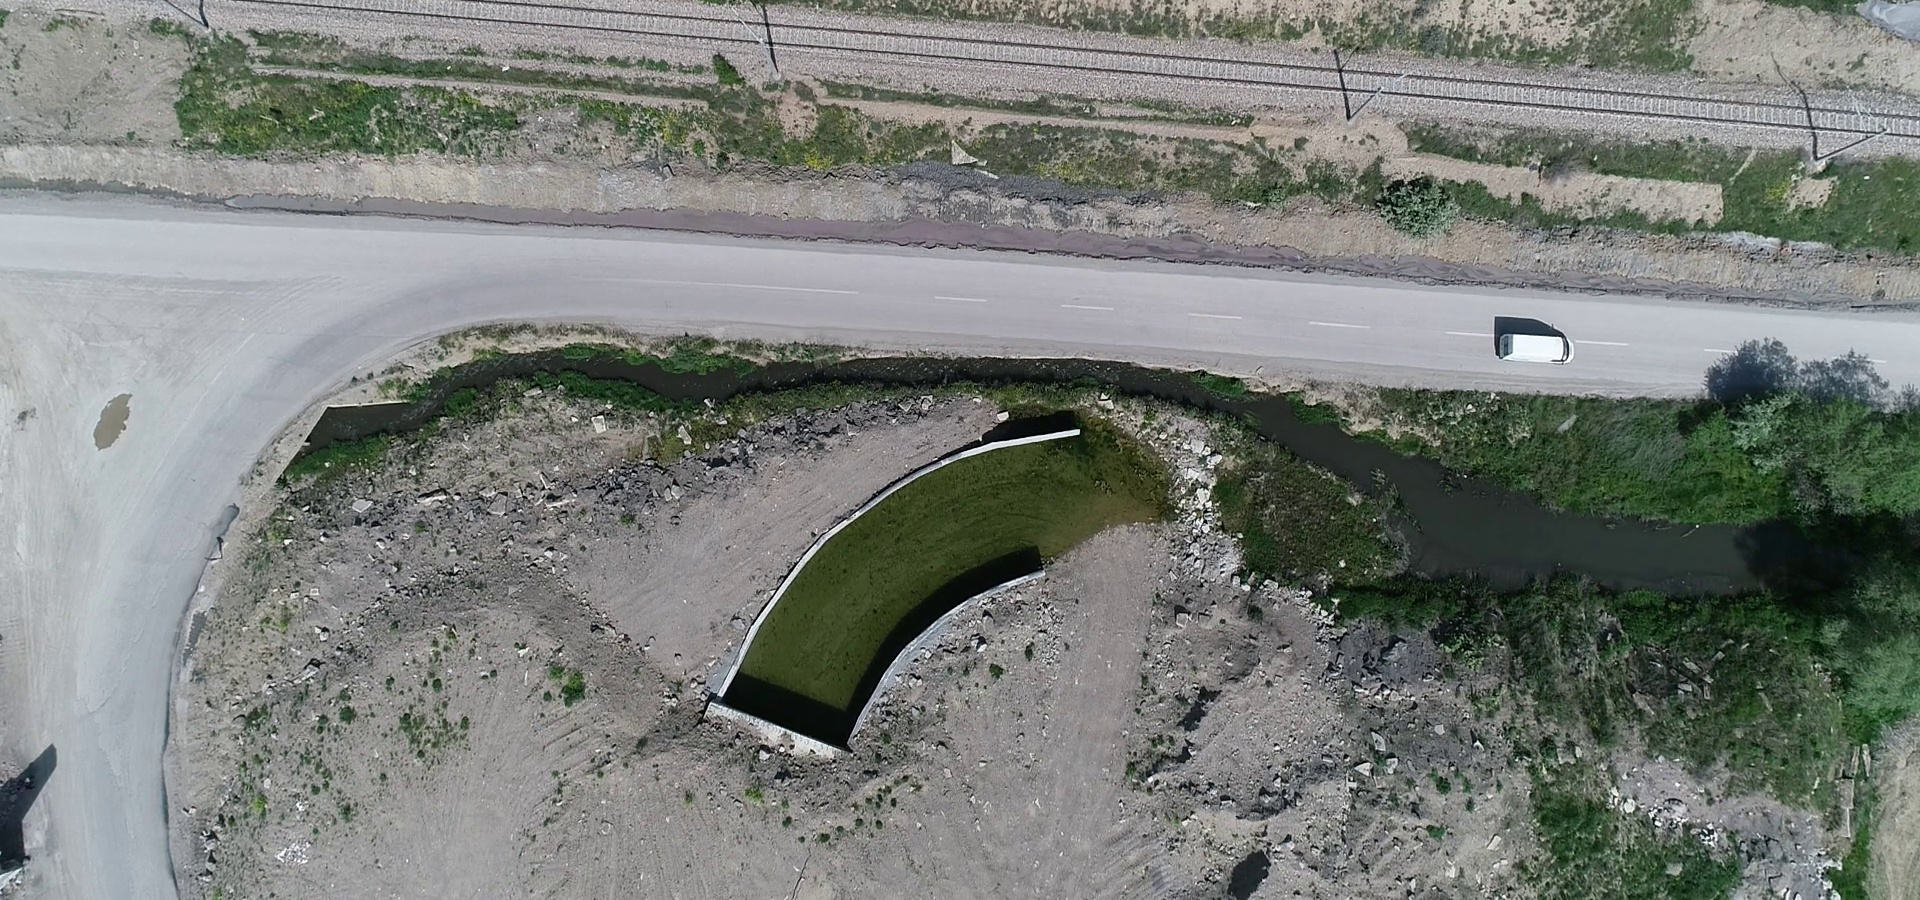araba: (1500, 321, 1584, 378)
